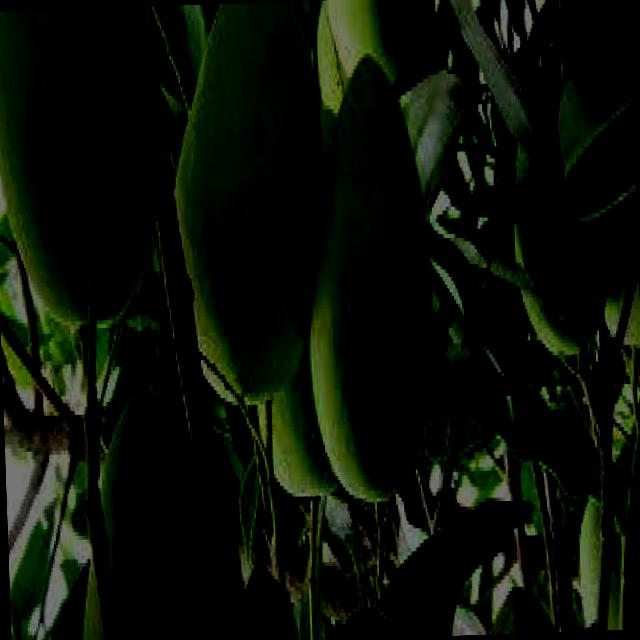Mango: (165, 7, 332, 410), (300, 57, 440, 504), (0, 6, 169, 333), (67, 382, 226, 640)
